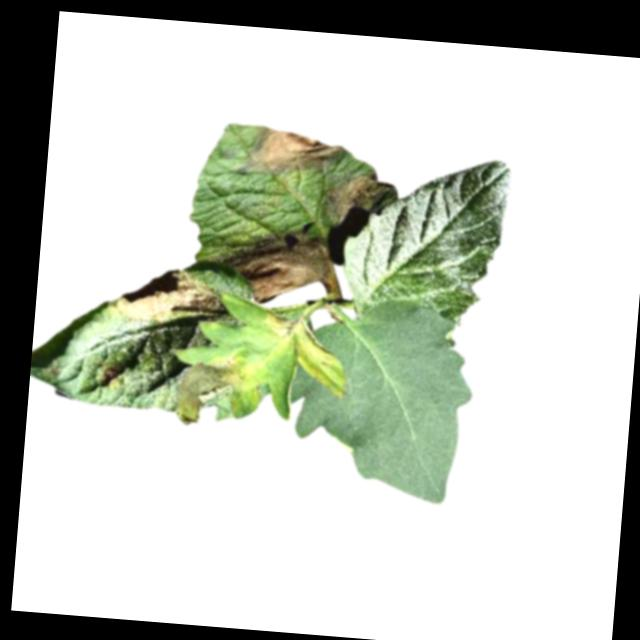Late_blight: (218, 226, 337, 309), (111, 258, 233, 329), (173, 348, 259, 430), (236, 124, 346, 182), (260, 310, 336, 379), (320, 170, 388, 226), (100, 365, 125, 388)
healthy: (282, 292, 481, 506), (340, 148, 517, 329)
